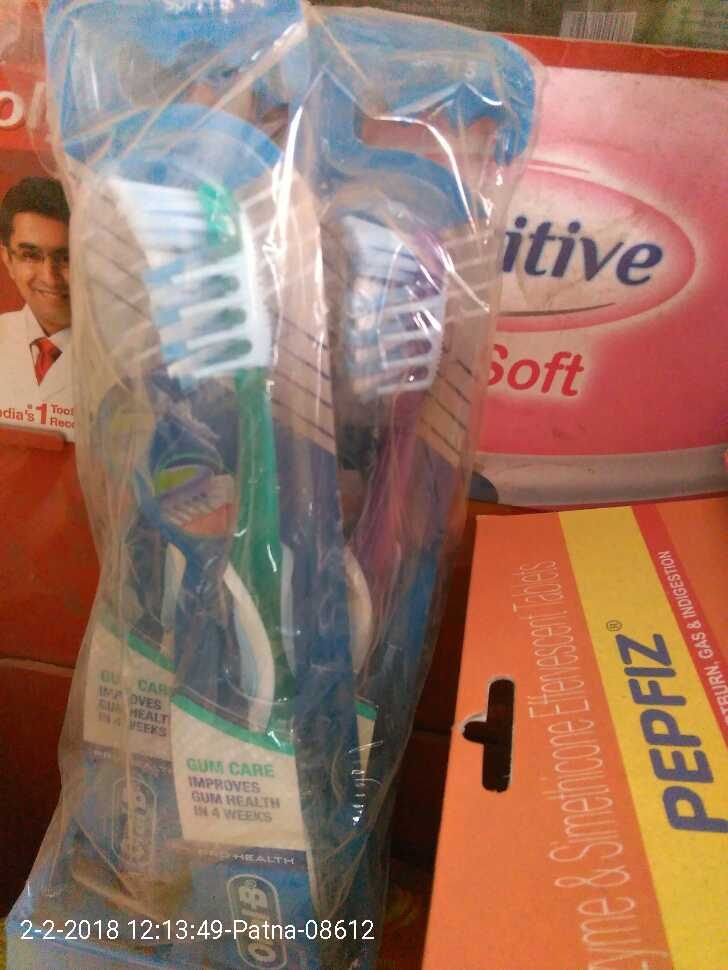oralb: (86, 156, 454, 945)
